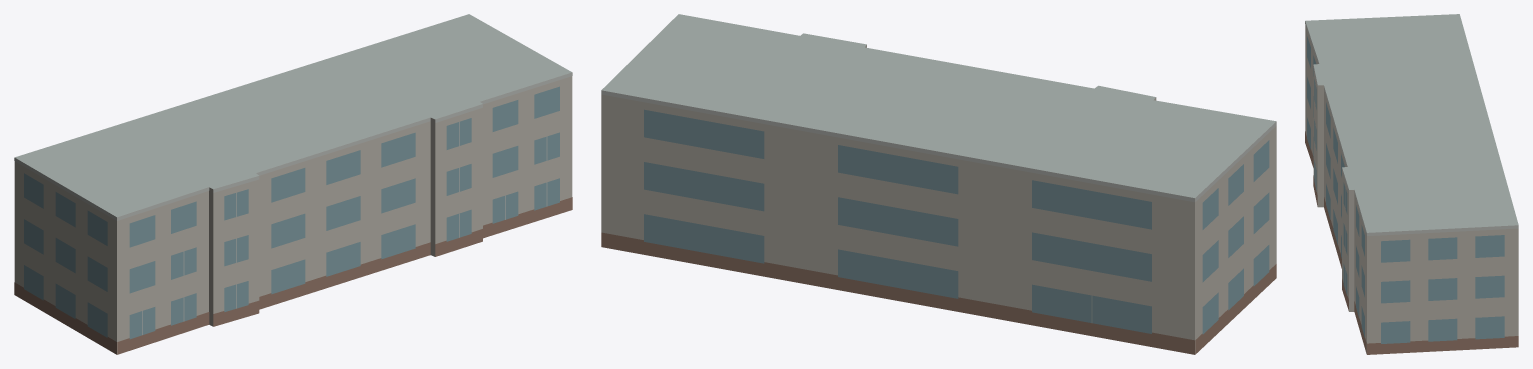
The model's file is survey-upis-32576080.glb.
3 views of the same model, side by side, from view 1: azimuth 30°, elevation 25°; view 2: azimuth 150°, elevation 25°; view 3: azimuth 270°, elevation 25° (orthographic). The views are drawn at different scales.
Parts seen in each view (by area): view 1: survey-upis-32576080.tmp; view 2: survey-upis-32576080.tmp; view 3: survey-upis-32576080.tmp.
Boxes of the visible parts, x1,y1,x2,y2 form: survey-upis-32576080.tmp: [14, 14, 572, 354]; survey-upis-32576080.tmp: [601, 14, 1276, 354]; survey-upis-32576080.tmp: [1305, 14, 1518, 354].
Bounding box in the file's own units: 35.21 × 9.15 × 14.53.
